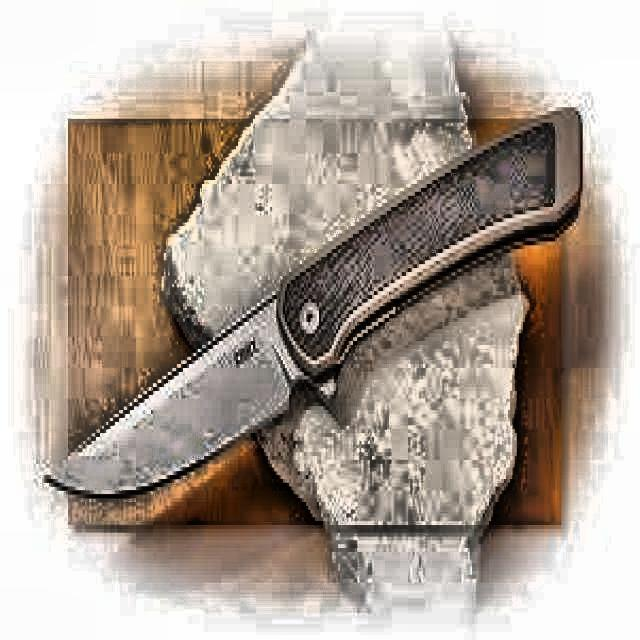knife: (35, 100, 590, 498)
